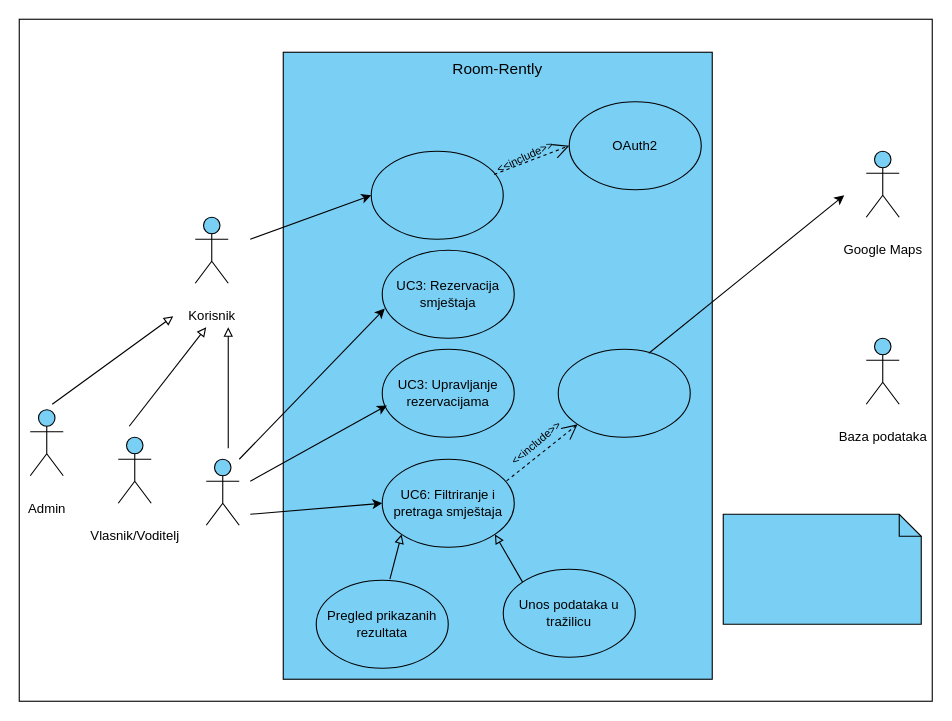
This 952x721 diagram has some shape labels left out. The centre of each missing label's shape, as x and y in pixels:
"Gost" belongs at point 222,491.
"Svi obrasci uporabe komuniciraju s bazom podataka" belongs at point 821,568.
"UC11: Integracija s Google Maps API-jem" belongs at point 623,392.
"UC1: Prijava i registracija korisnika" belongs at point 436,194.
